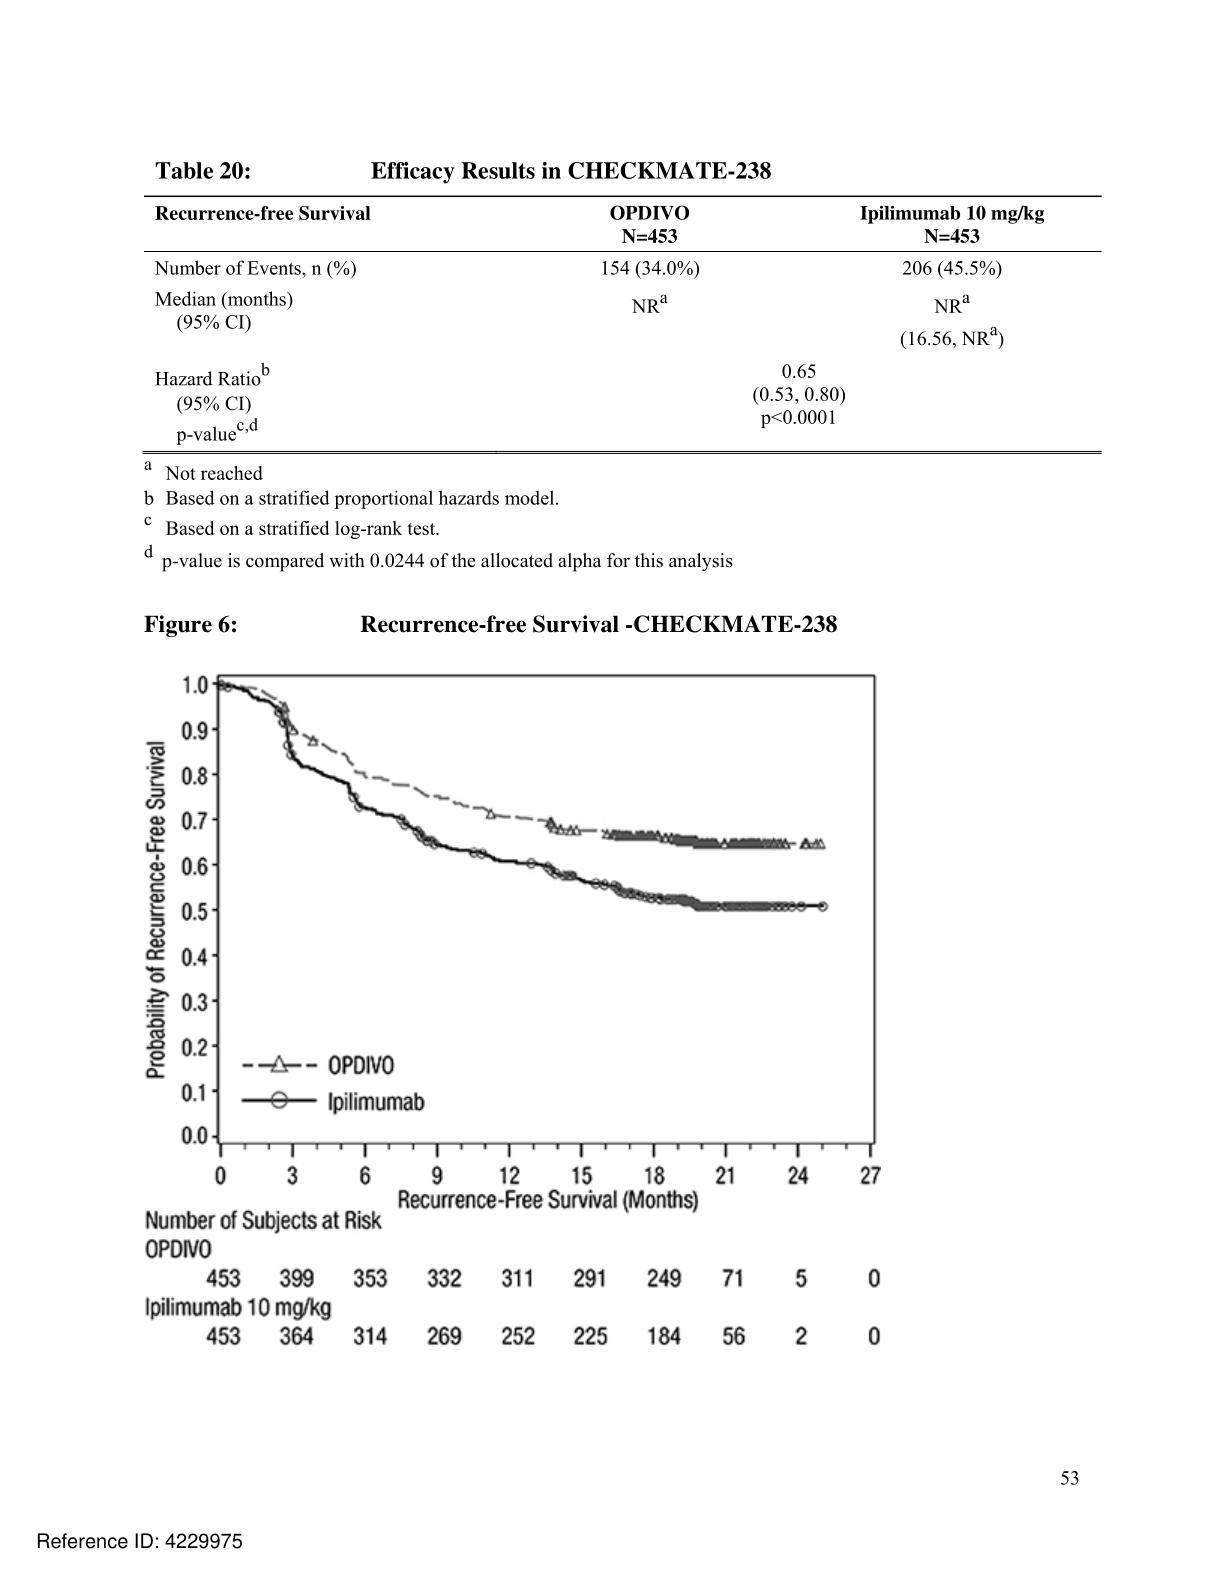nolines: (140, 1236, 887, 1349)
partial_lined: (141, 194, 1102, 455)
